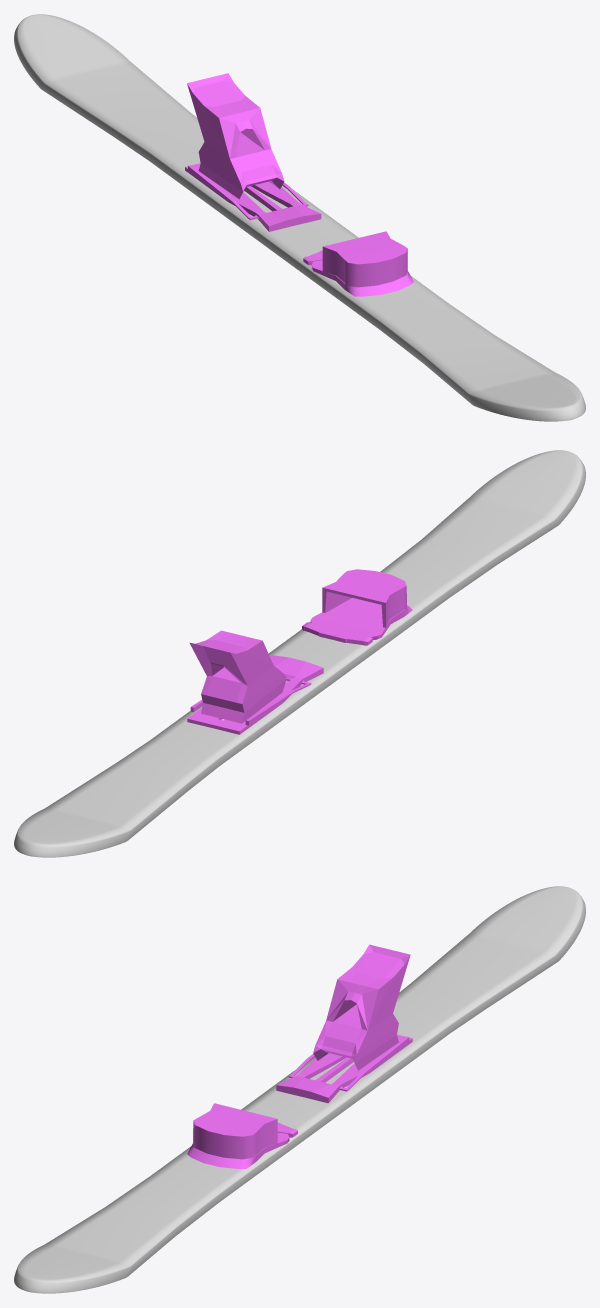
File: skis.fbx
3 views of the same model, one above another, from view 1: azimuth 30°, elevation 25°; view 2: azimuth 150°, elevation 25°; view 3: azimuth 330°, elevation 25° (orthographic).
Parts seen in each view (by area): view 1: shaungl, shuanggudingL, holdFore; view 2: shaungl, shuanggudingL, holdFore; view 3: shaungl, shuanggudingL, holdFore.
Part boxes in pixels (x1,y1,x2,y2): shaungl: (14,14,585,421); shuanggudingL: (185,73,321,231); holdFore: (303,231,413,296); shaungl: (14,450,585,857); shuanggudingL: (187,630,323,734); holdFore: (302,569,412,645); shaungl: (14,886,585,1293); shuanggudingL: (276,944,412,1103); holdFore: (187,1103,297,1168).
Bounding box in the file's own units: 16.61 × 17.14 × 181.
